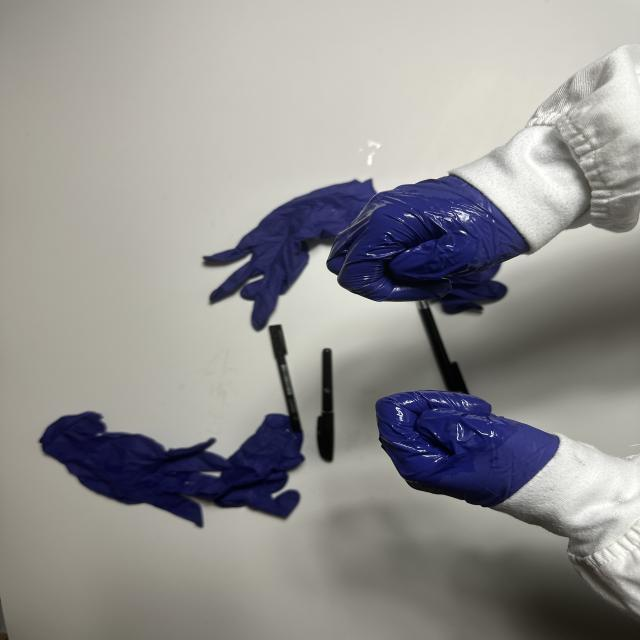gloves_contaminated: (328, 177, 528, 301), (376, 391, 559, 506)
